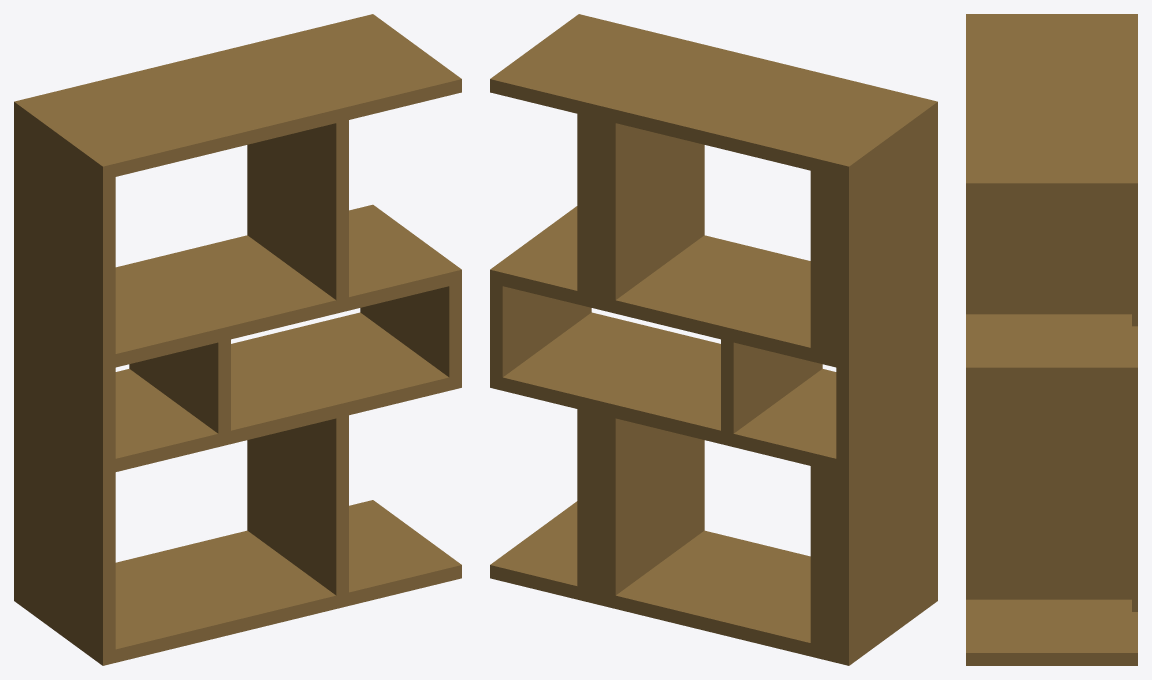
3 renders of one model, left to right at view 1: azimuth 30°, elevation 25°; view 2: azimuth 150°, elevation 25°; view 3: azimuth 270°, elevation 25°, orthographic. The views are drawn at different scales.
Visible parts, largest first — view 1: Body; view 2: Body; view 3: Body.
Boxes of the visible parts, left/top/right/bottom form: Body: left=14, top=14, right=461, bottom=665; Body: left=490, top=14, right=937, bottom=665; Body: left=966, top=14, right=1137, bottom=665.
Size of the model in its own units: 0.7 by 0.93 by 0.3.
